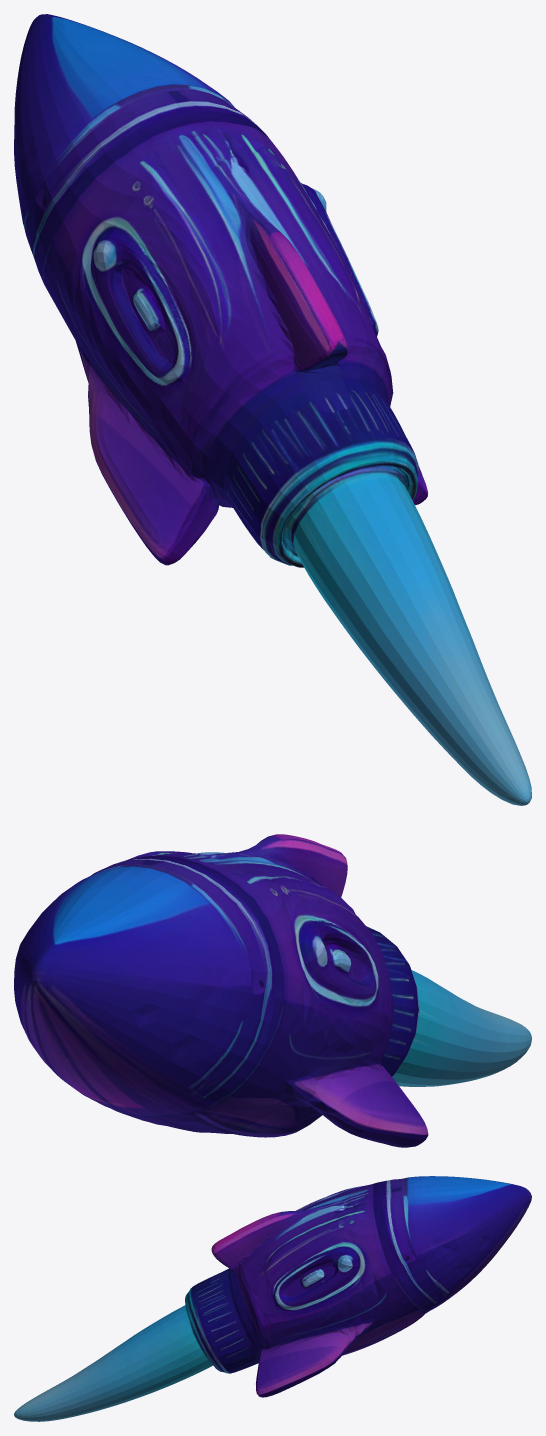
The model's file is cohete.glb.
The picture shows the model from 3 angles, top to bottom: view 1: azimuth 30°, elevation 25°; view 2: azimuth 150°, elevation 25°; view 3: azimuth 270°, elevation 25°; orthographic projection. The views are drawn at different scales.
Parts seen in each view (by area): view 1: tripo_node_35c1abf7-a28f-487e-950a-ed8943dd3a52; view 2: tripo_node_35c1abf7-a28f-487e-950a-ed8943dd3a52; view 3: tripo_node_35c1abf7-a28f-487e-950a-ed8943dd3a52.
Boxes of the visible parts, x1,y1,x2,y2 form: tripo_node_35c1abf7-a28f-487e-950a-ed8943dd3a52: [14, 14, 531, 805]; tripo_node_35c1abf7-a28f-487e-950a-ed8943dd3a52: [14, 834, 531, 1147]; tripo_node_35c1abf7-a28f-487e-950a-ed8943dd3a52: [14, 1176, 531, 1421].
Bounding box in the file's own units: 0.3265 × 0.5074 × 0.9997.
1 material, 1 textured.
